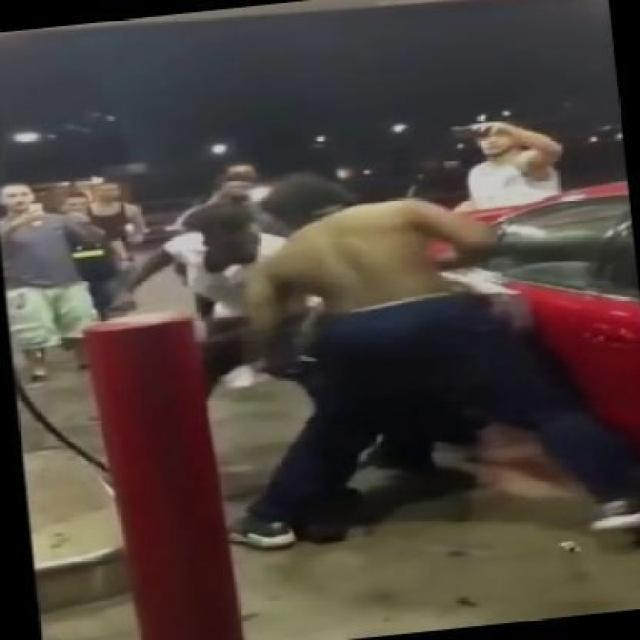fight: (157, 165, 637, 624)
